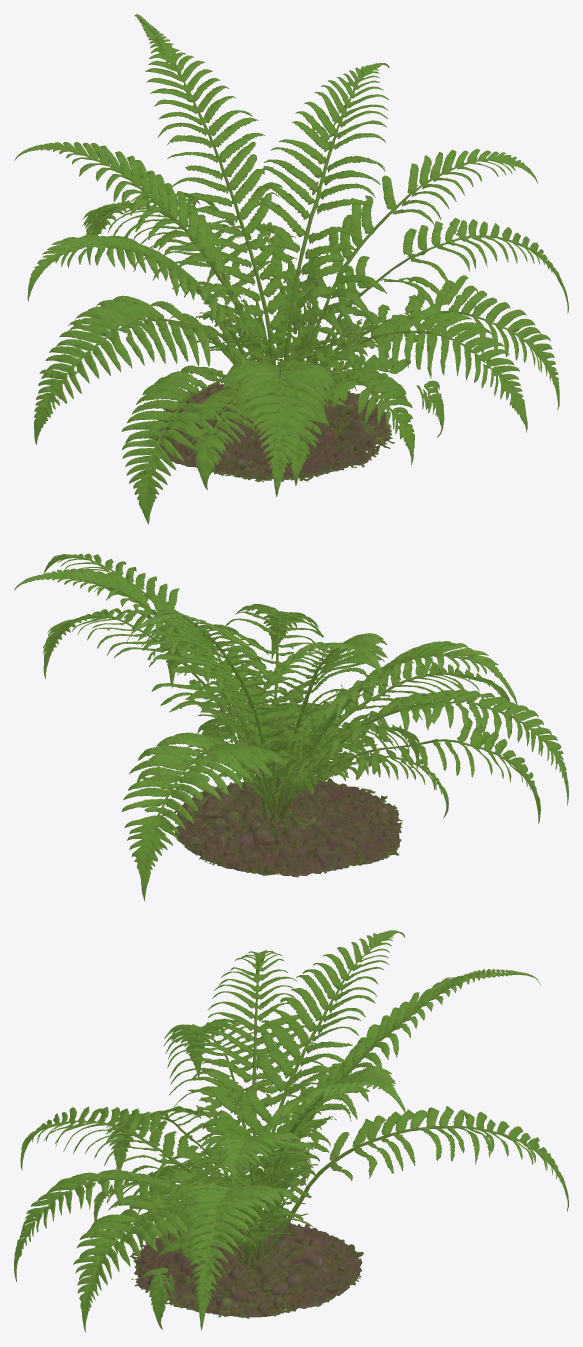
File: Meshy_AI_fern_a_0823021125_image-to-3d-texture.glb
3 renders of one model, top to bottom at view 1: azimuth 30°, elevation 25°; view 2: azimuth 150°, elevation 25°; view 3: azimuth 270°, elevation 25°, orthographic. The views are drawn at different scales.
Size of the model in its own units: 1.9 by 1.07 by 1.76.
1 material, 1 textured.
